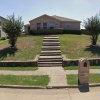stairs: (38, 35, 64, 67)
